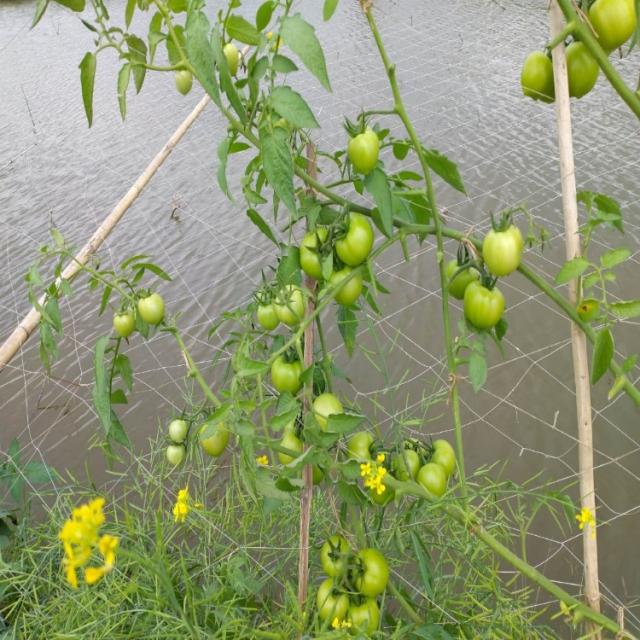tomato: (477, 208, 530, 280), (460, 280, 515, 344), (329, 208, 378, 271), (584, 1, 640, 56), (349, 534, 394, 600), (557, 34, 598, 106), (513, 50, 559, 110), (341, 125, 388, 179), (267, 348, 306, 400), (341, 592, 387, 632), (266, 278, 303, 323), (136, 285, 174, 325), (317, 536, 352, 578), (293, 229, 327, 272), (445, 251, 478, 295), (308, 386, 346, 423), (390, 437, 421, 481), (314, 577, 343, 624), (214, 43, 245, 85), (435, 440, 464, 483), (196, 425, 229, 461), (250, 295, 279, 335), (105, 306, 135, 344), (339, 430, 373, 462), (167, 70, 198, 105), (419, 463, 446, 498), (161, 440, 184, 471), (167, 416, 188, 442)
